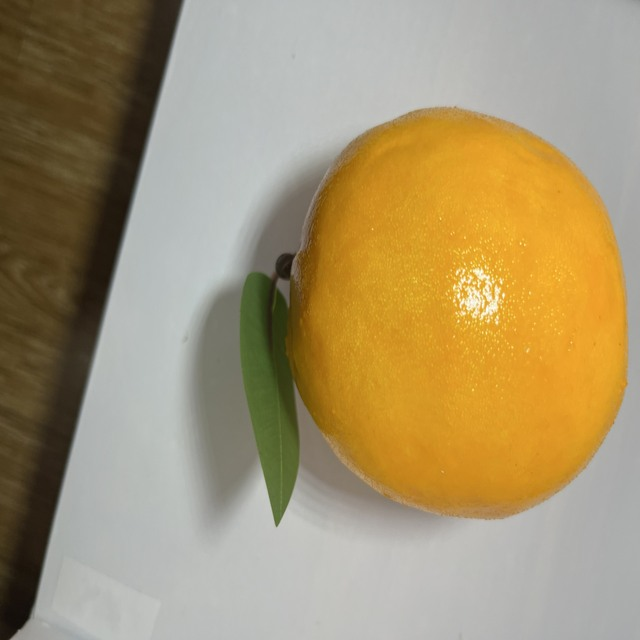Cam vang: (249, 94, 637, 525)
